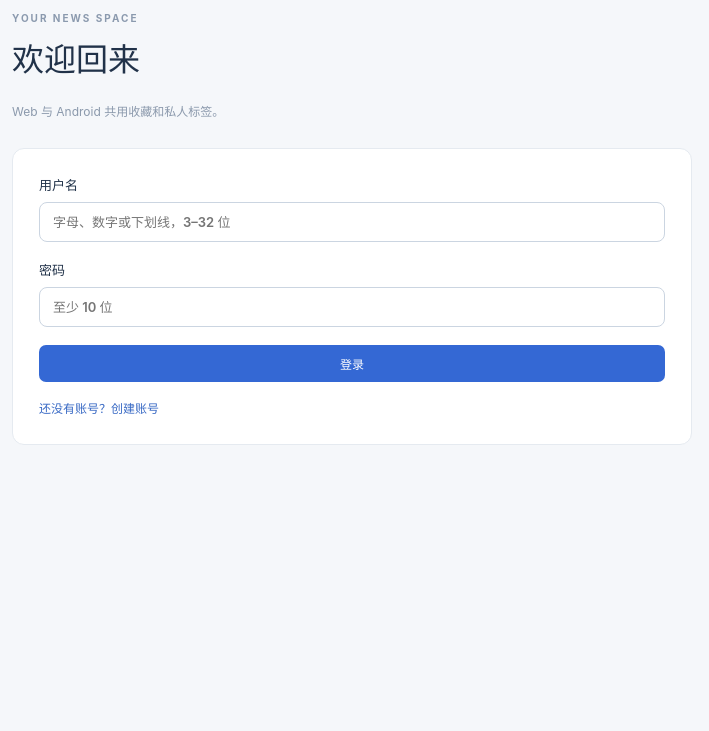
Test: registration submits web credentials, loads user, logout clears private state
Expected: the heading "欢迎回来" is shown, 12,40 -> 140,79
Click the button "还没有账号？创建账号" at [99, 409], box 39,400 -> 665,418
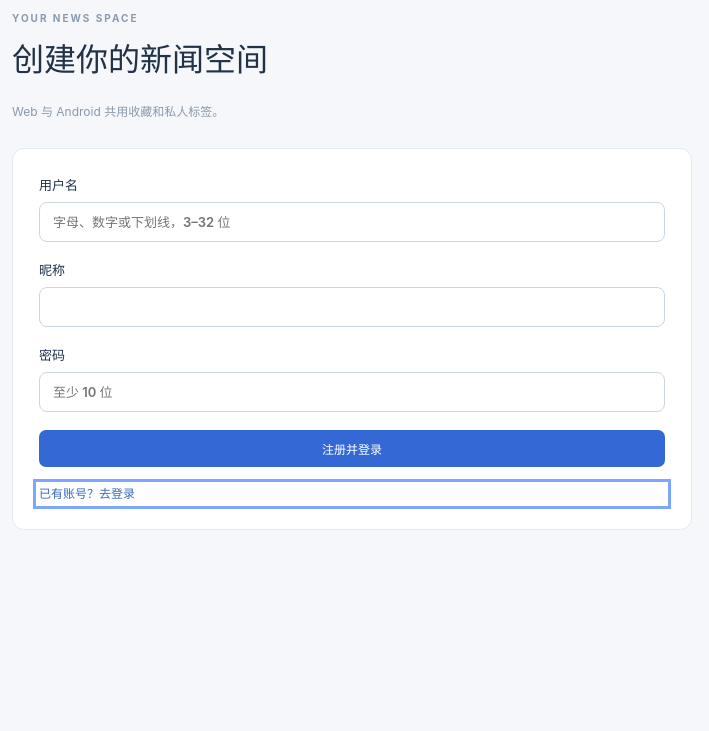
Type "reader" into the field labelled "用户名" at [352, 222], box 39,202 -> 665,242
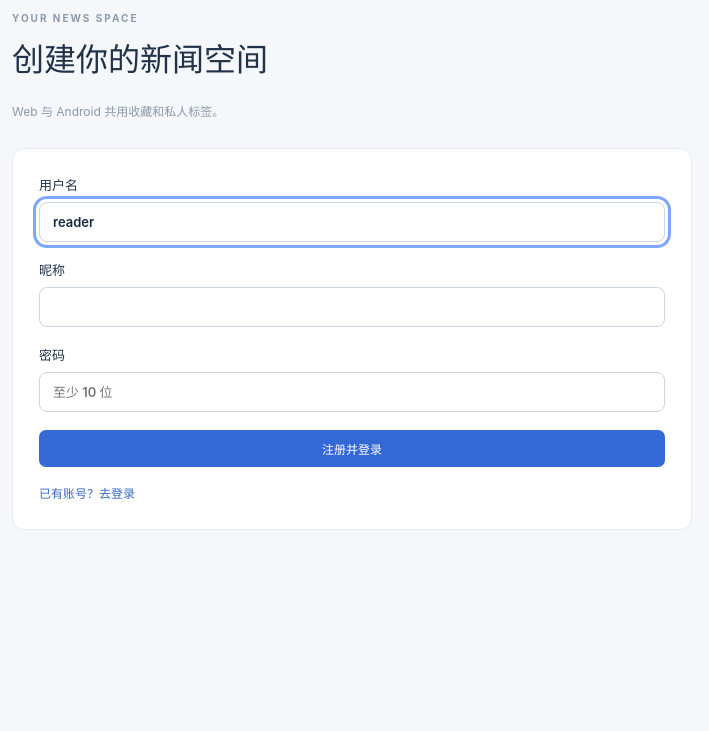
Type "读者" into the field labelled "昵称" at [352, 307], box 39,287 -> 665,327
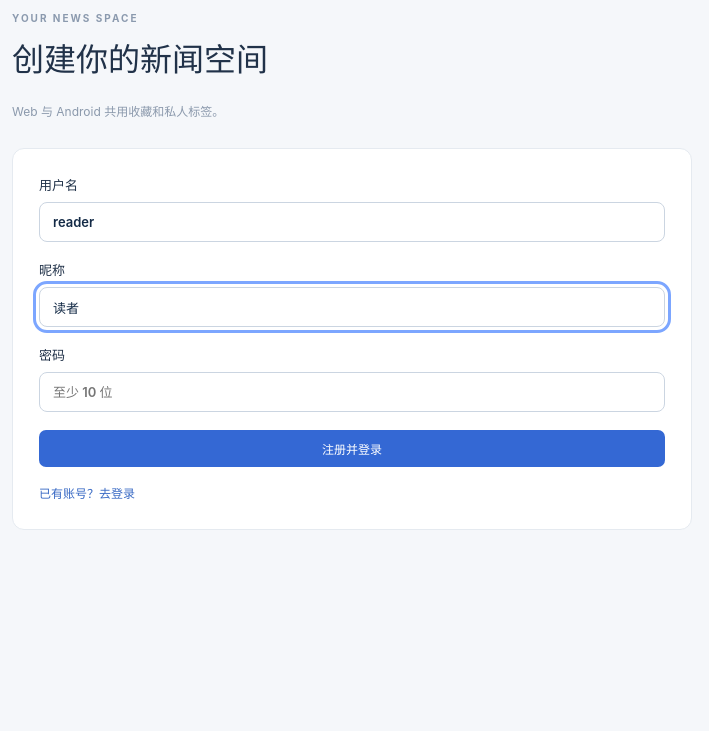
Type "Long-Password-123" into the password field labelled "密码" at [352, 392], box 39,372 -> 665,412
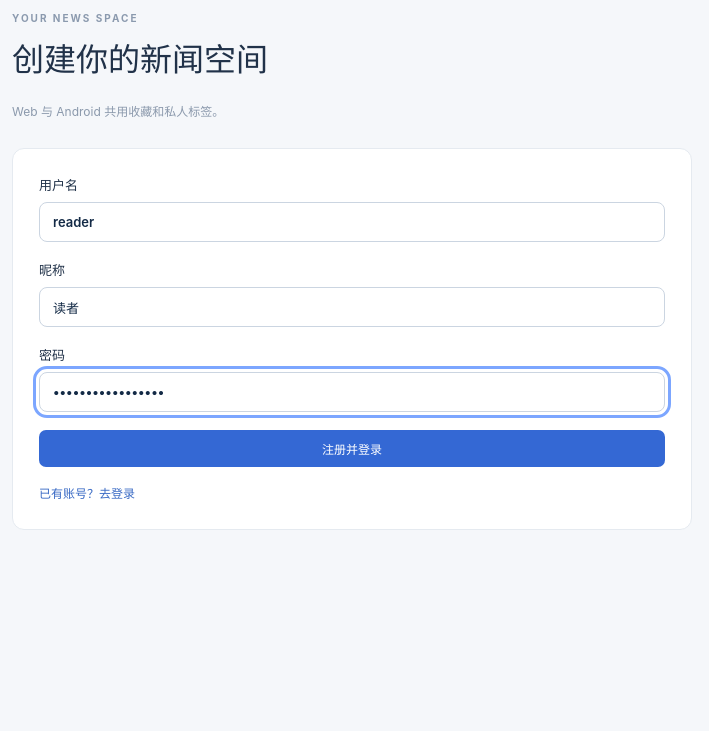
Click the button "注册并登录" at [352, 449], box 39,430 -> 665,467
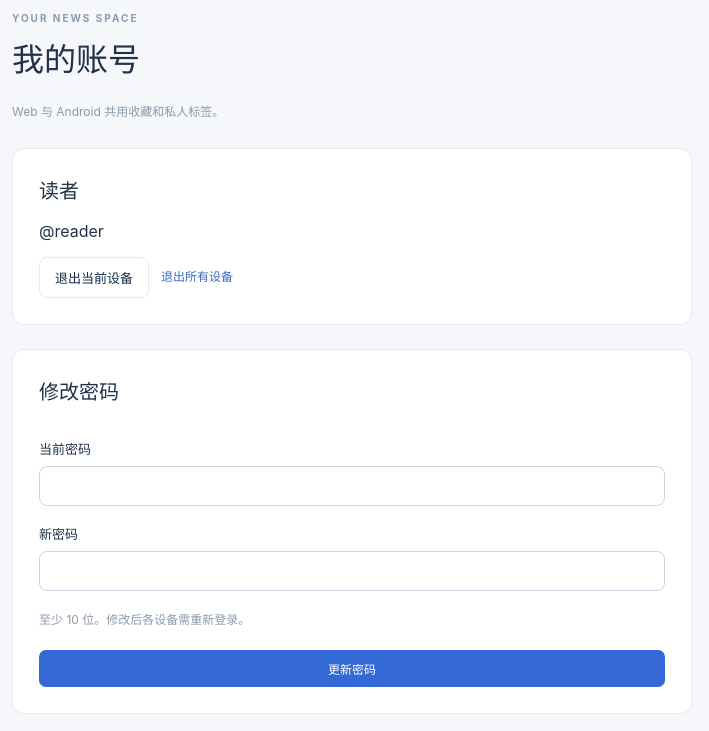
Expected: the heading "我的账号" is shown, 12,40 -> 140,79
Click the button "退出当前设备" at [94, 277], box 39,257 -> 149,298
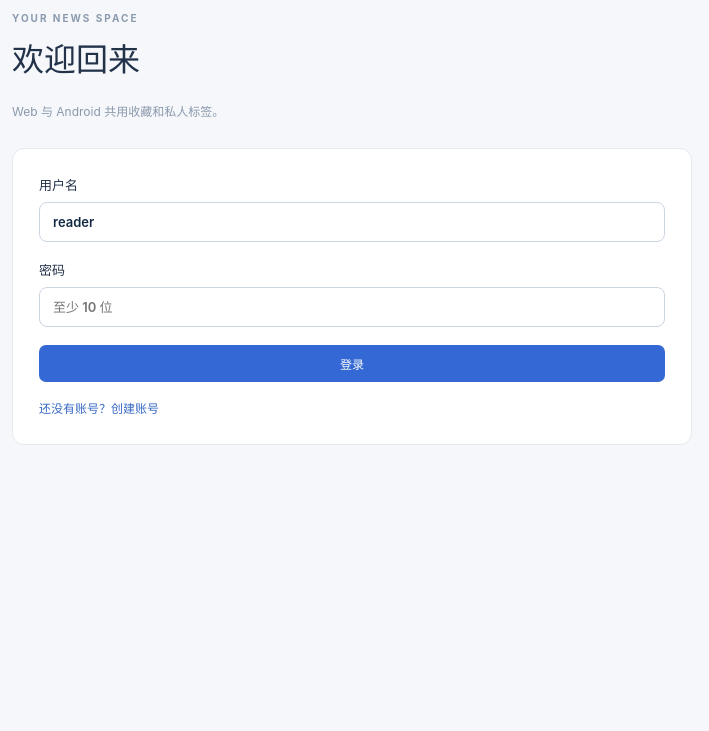
Expected: the heading "欢迎回来" is shown, 12,40 -> 140,79
